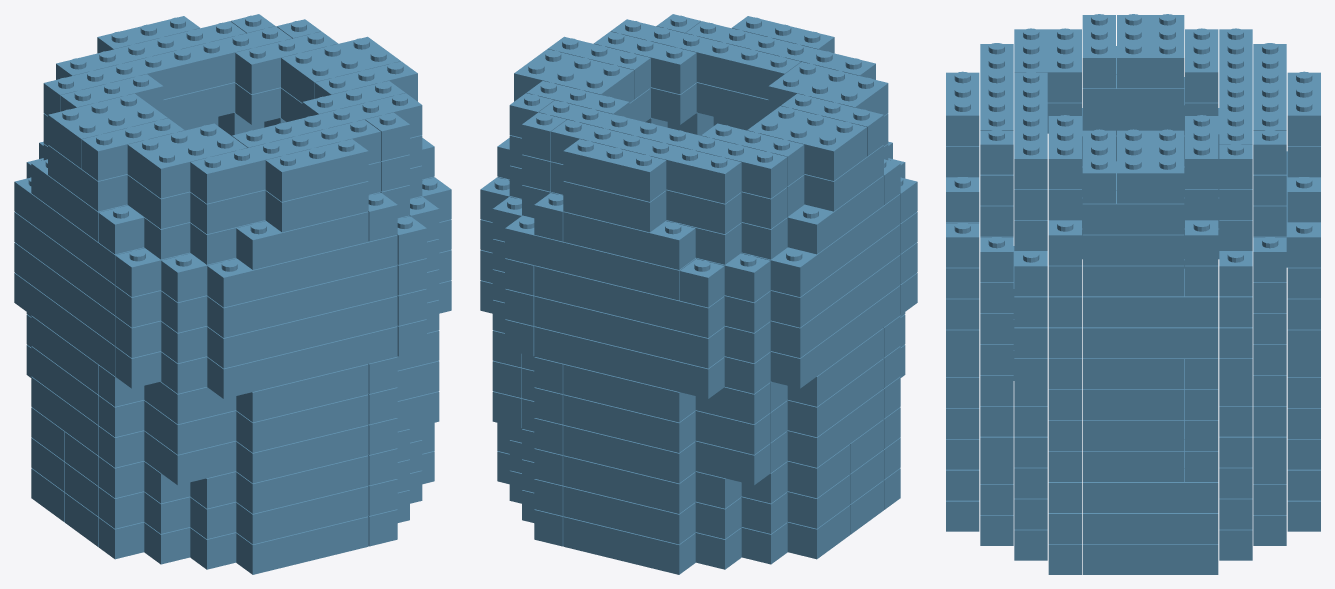
The model's file is 173_jar_L3.glb.
The picture shows the model from 3 angles, left to right: view 1: azimuth 30°, elevation 25°; view 2: azimuth 150°, elevation 25°; view 3: azimuth 270°, elevation 25°; orthographic projection.
Size of the model in its own units: 10.98 by 13.13 by 10.98.
